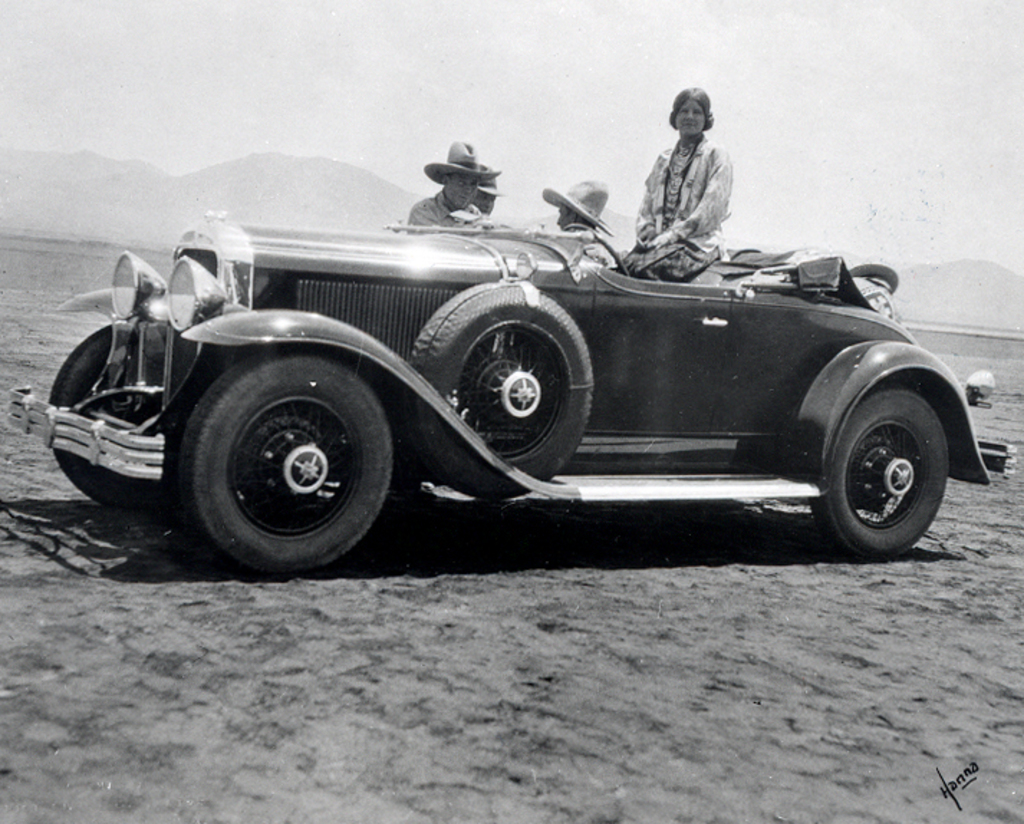Car: (56, 157, 959, 572)
